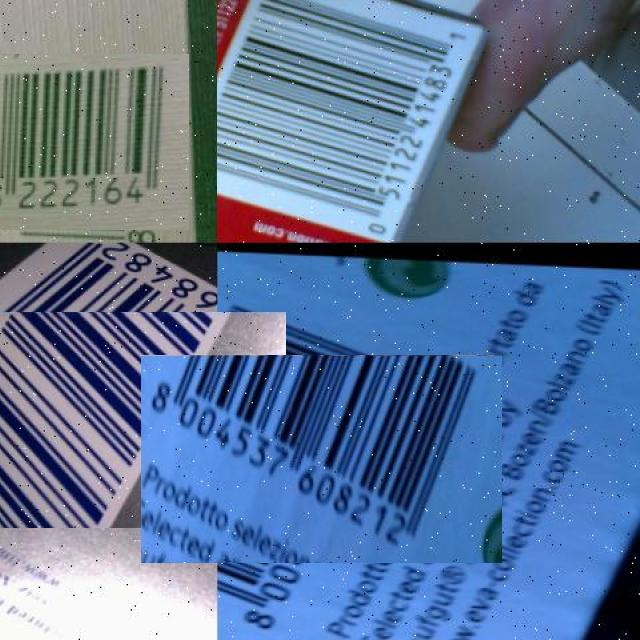Barcode: (178, 316, 464, 602), (0, 276, 251, 563), (217, 0, 493, 243), (0, 47, 182, 236)
